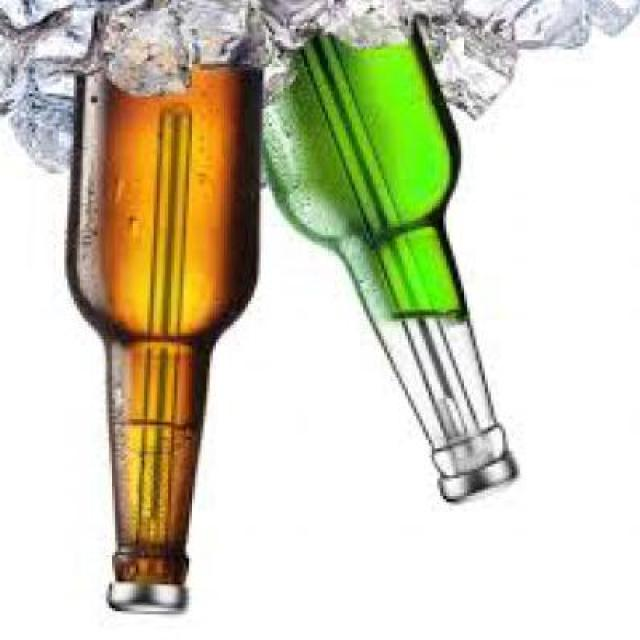kaca: (260, 29, 510, 478), (81, 64, 262, 587)
